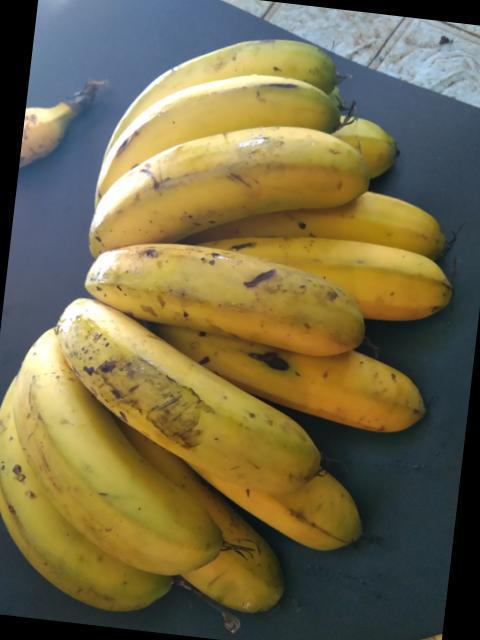ripe: (69, 270, 301, 481), (23, 325, 218, 576), (69, 125, 361, 263), (72, 240, 376, 360), (103, 74, 354, 185), (255, 308, 441, 427), (201, 447, 387, 552), (313, 250, 462, 307)
